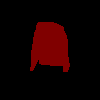giaccone: (30, 22, 70, 72)
